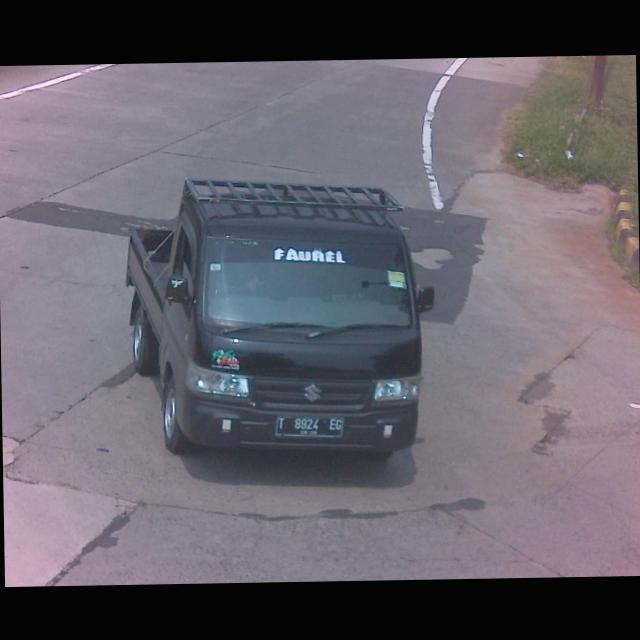plate: (273, 410, 345, 440)
